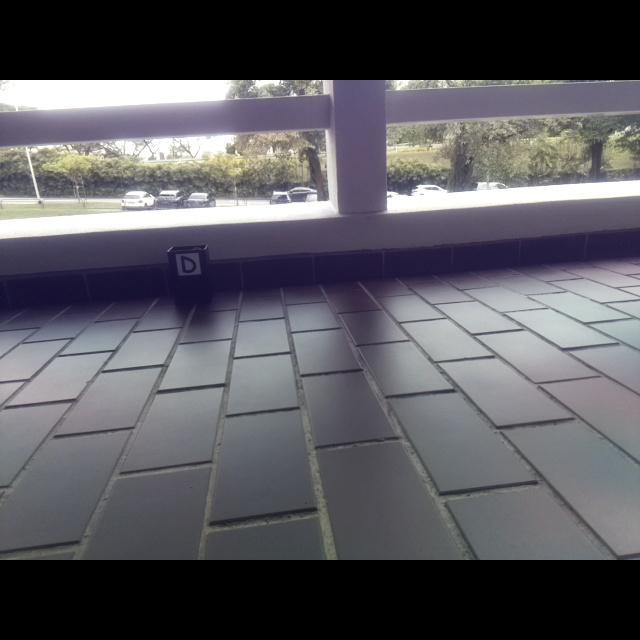D: (179, 255, 197, 274)
